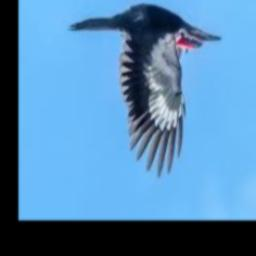Woodpecker: (67, 4, 222, 179)
